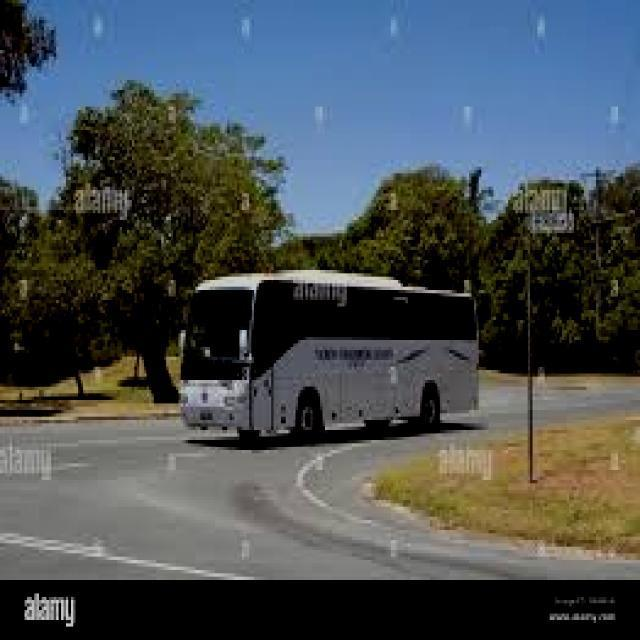Bus: (176, 260, 494, 460)
